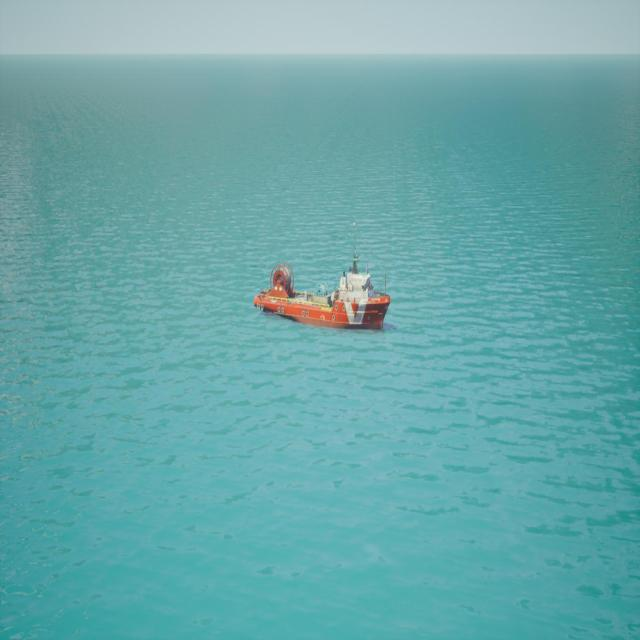tug boat: (253, 254, 396, 336)
